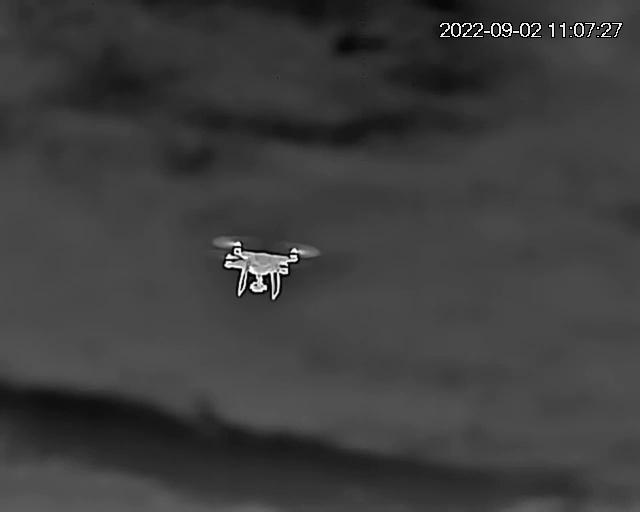DJI-Phantom: (210, 232, 318, 298)
